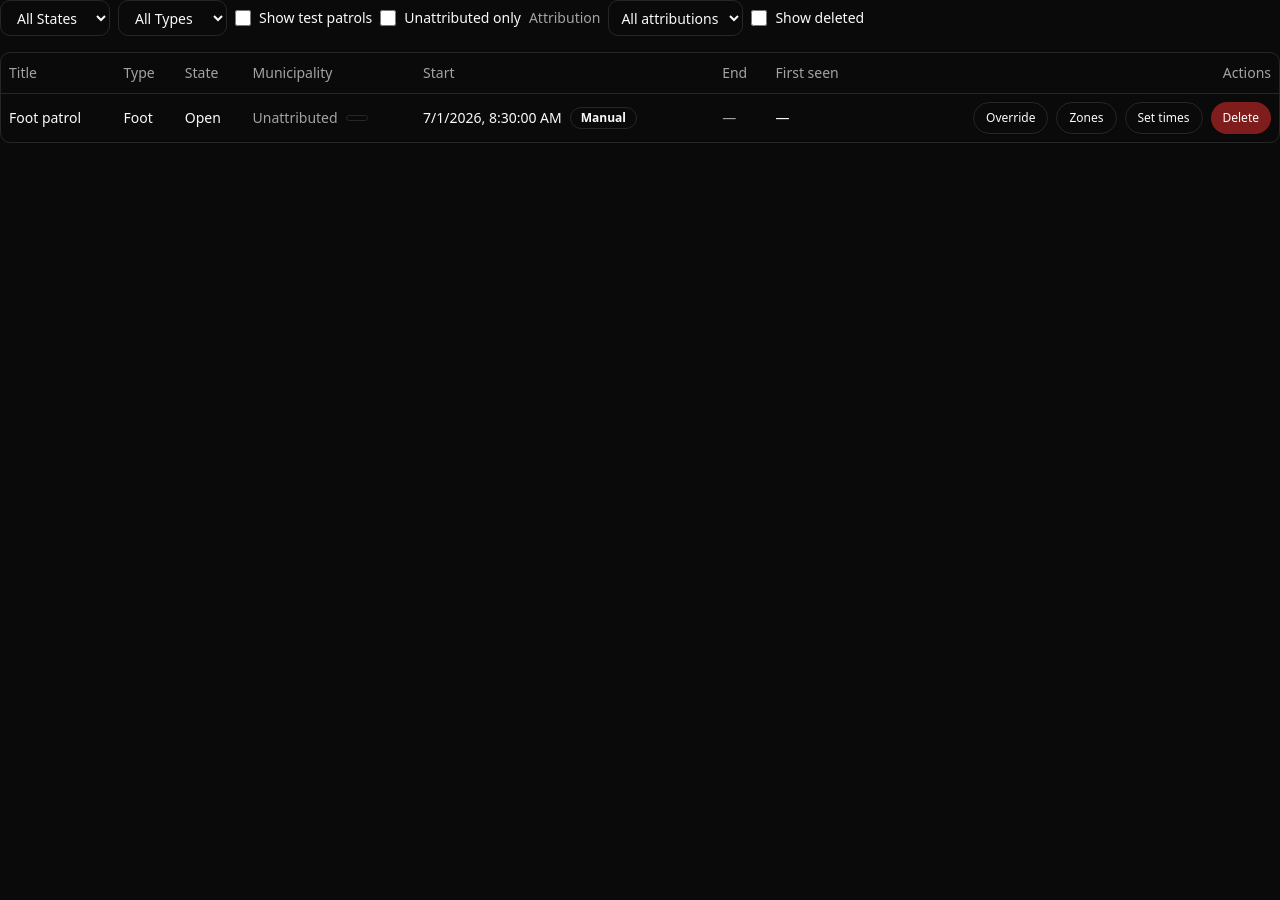
Test case: PatrolsTable — time override › prefills the dialog inputs from the patrol's existing times
Click the button with test id "time-override-button-p1": click(1164, 118) [1124,102,1202,134]
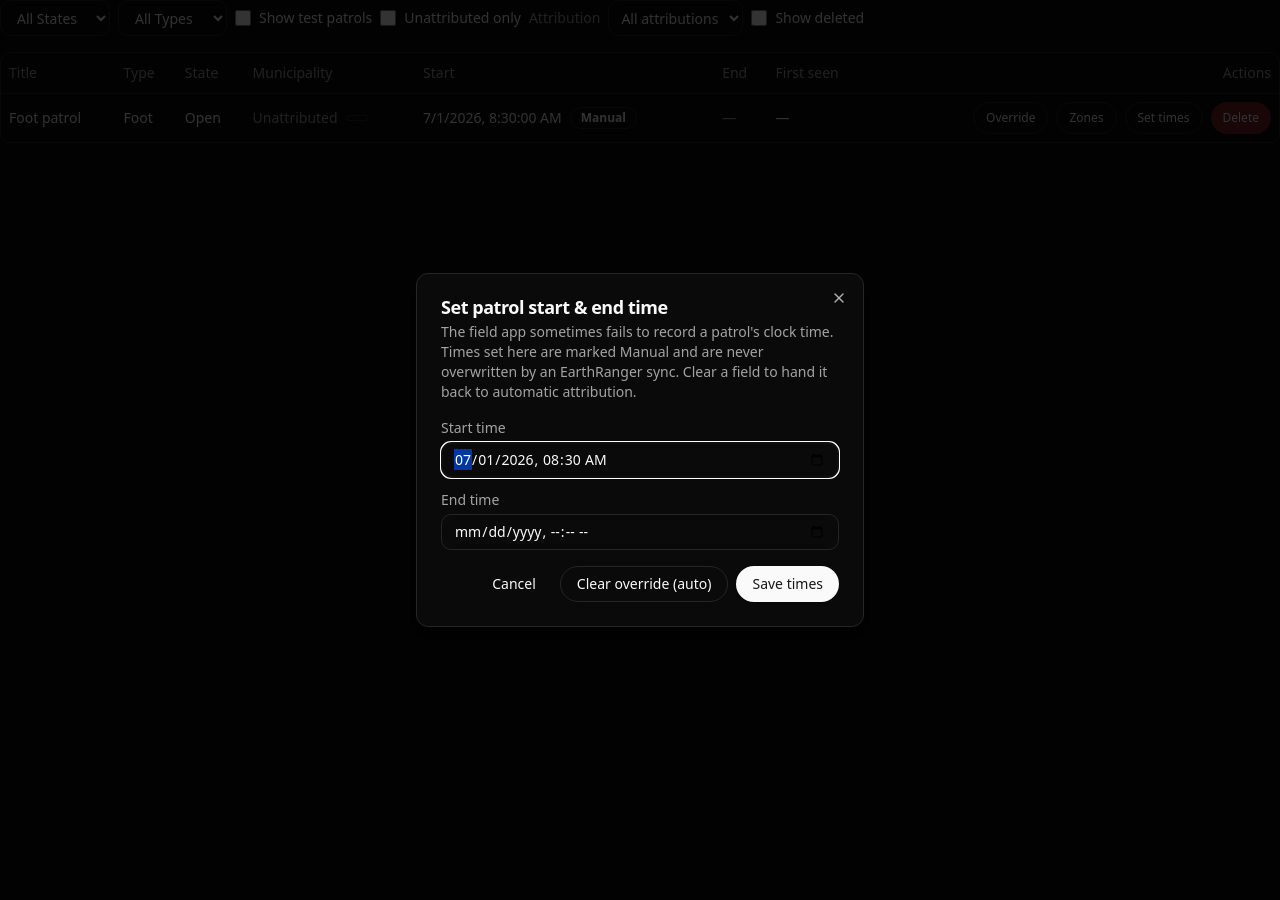
Expected: the field with test id "override-start-time-input" holds "2026-07-01T08:30", [441,442,839,478]
